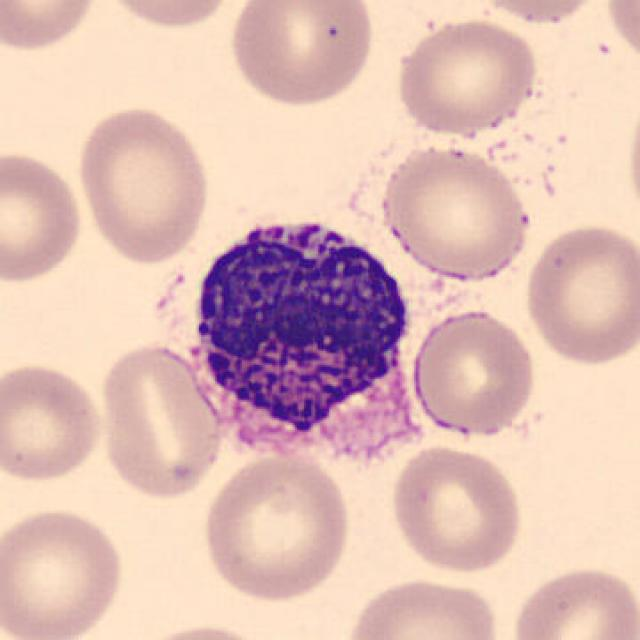Basophil: (174, 199, 428, 476)
RBC: (198, 450, 356, 604), (73, 100, 213, 268), (377, 139, 533, 284), (94, 337, 228, 502), (388, 441, 526, 576), (407, 305, 541, 441), (391, 16, 541, 137), (0, 502, 128, 640), (521, 218, 638, 368), (225, 0, 378, 109), (0, 358, 107, 487), (0, 144, 87, 288), (339, 573, 505, 640), (506, 560, 640, 640), (0, 0, 101, 54), (94, 0, 244, 32), (469, 0, 607, 26), (126, 620, 275, 640), (602, 0, 640, 69), (624, 90, 640, 231)
